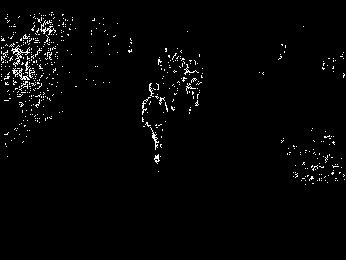person: (143, 80, 170, 166)
